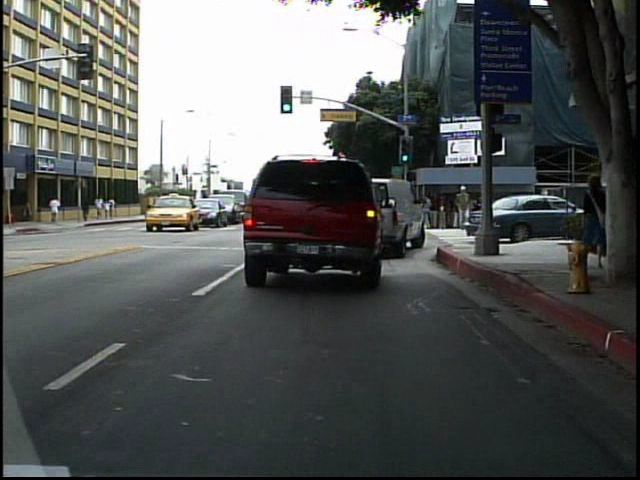person: (578, 169, 614, 273), (456, 182, 473, 229), (50, 195, 64, 227)
